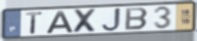3: (153, 5, 173, 30)
A: (45, 10, 75, 35)
B: (124, 7, 150, 31)
J: (100, 7, 123, 33)
T: (25, 11, 44, 35)
X: (72, 8, 99, 34)
